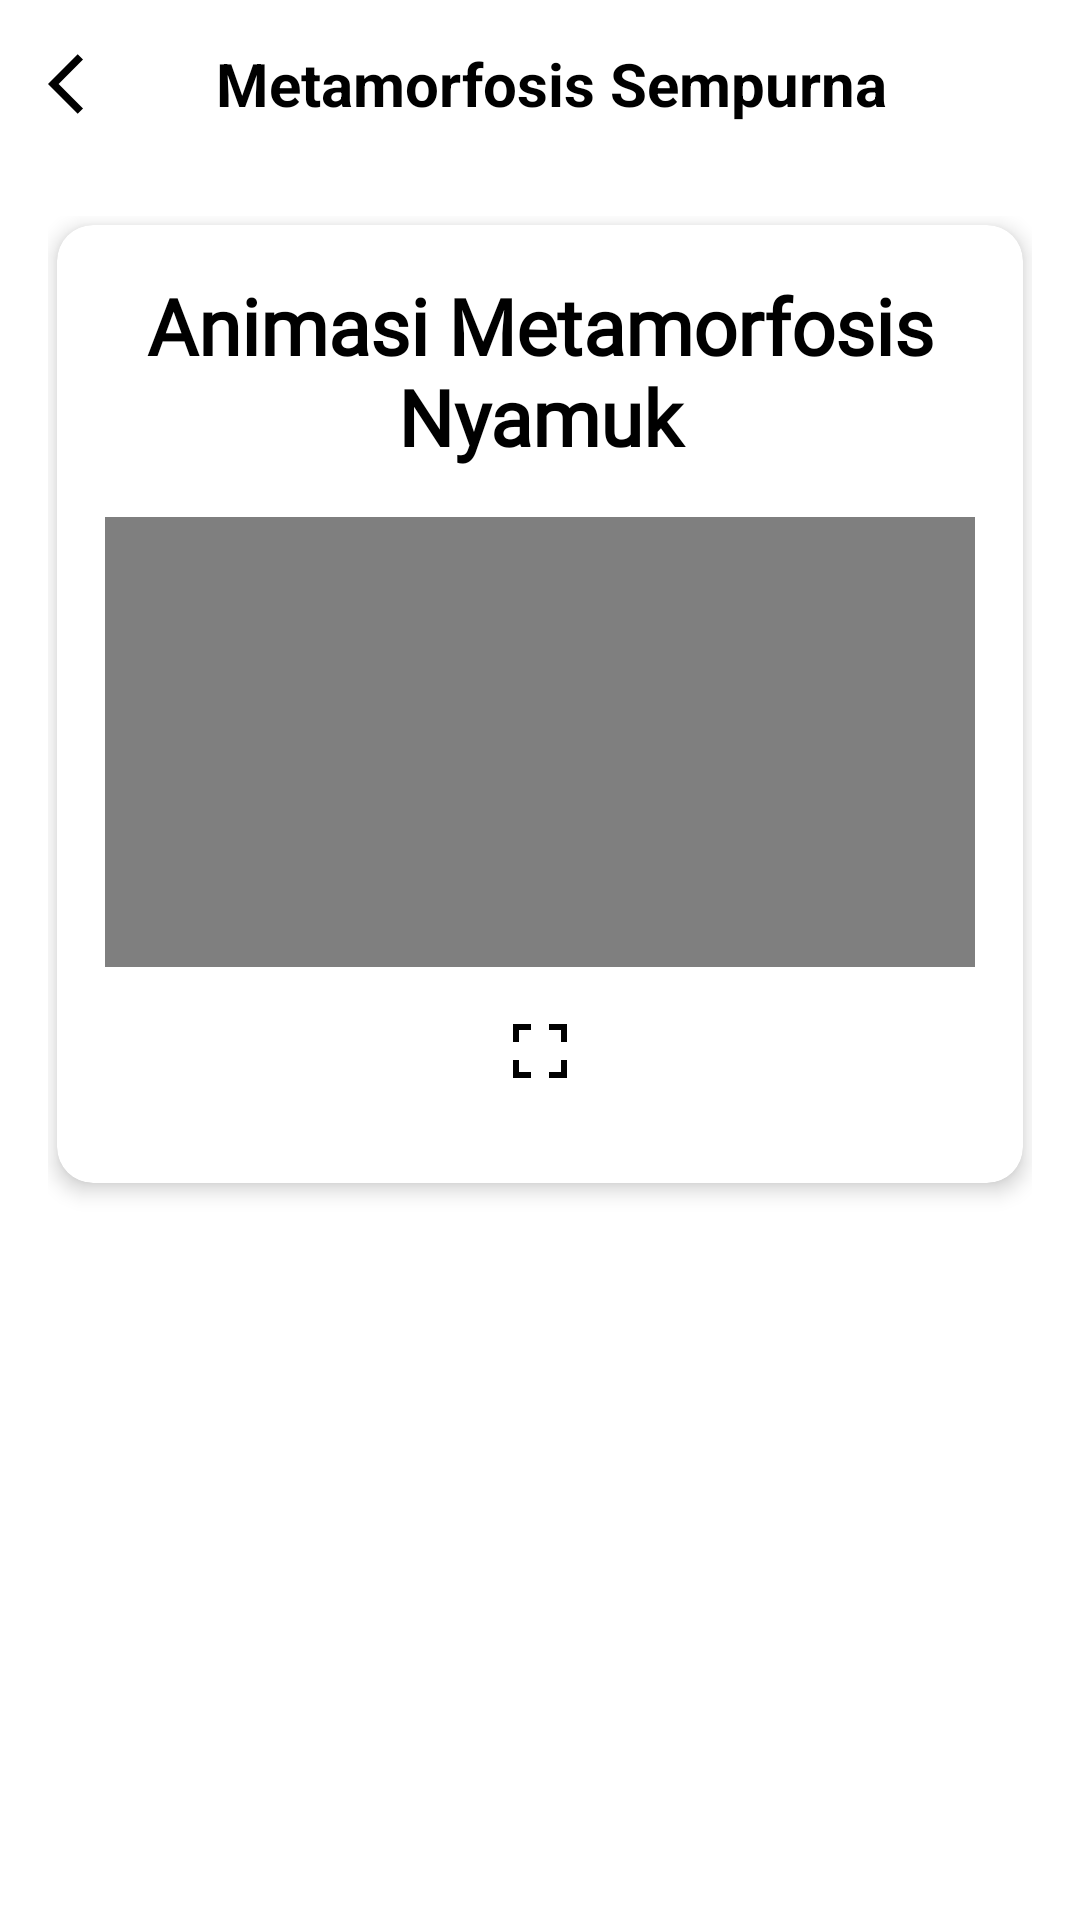

Icons on this 1080x1920 Android screen, each with its box as bbox=[x1, y1, x2, y2]:
Fullscreen: bbox=[513, 1024, 567, 1078]
